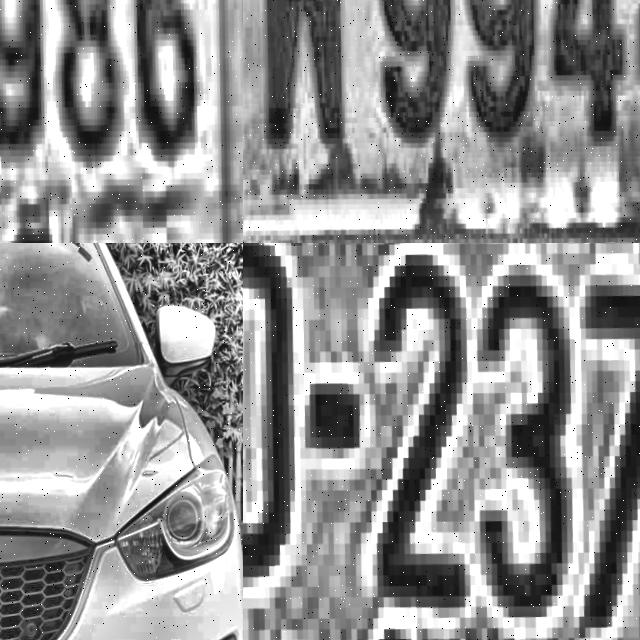license-plate: (243, 243, 640, 640), (243, 0, 640, 243), (0, 0, 243, 243)
